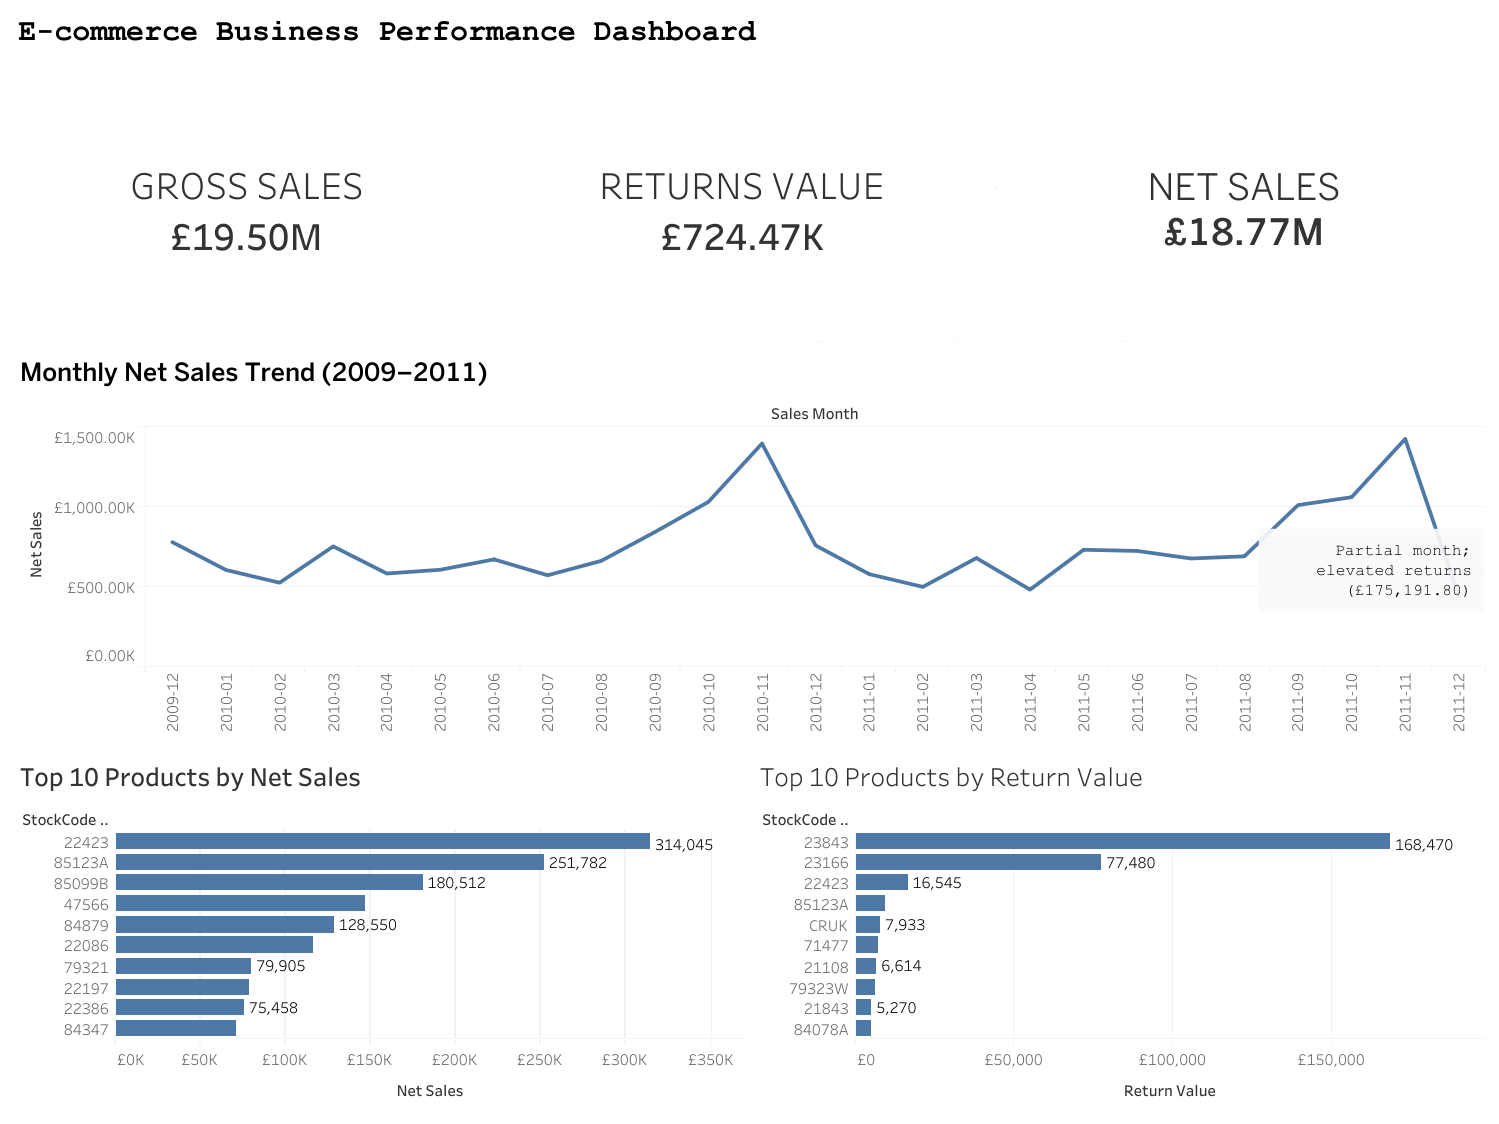

The page's visual inventory and layout, read from the dashboard file:
{"tool":"tableau","page":{"name":"Dashboard 1","canvas":[1200,900],"ordinal":0},"visuals":[{"type":"title","box":[8,8,1184,42]},{"type":"worksheet","title":"KPI - Gross Sales","mark":"Automatic","box":[8,50,379,230.1]},{"type":"worksheet","title":"KPI - Returns Value","mark":"Automatic","box":[387,50,413,230.1]},{"type":"worksheet","title":"KPI - Net Sales","mark":"Automatic","box":[800,50,392,230.1]},{"type":"worksheet","title":"Monthly Sales Trend","mark":"Line","rows":["Calculation_2898104825536512"],"cols":["Sales_Month"],"box":[8,280.1,1184,318.5]},{"type":"worksheet","title":"Top 10 Products by Net Sales","mark":"Bar","rows":["StockCode_norm"],"cols":["Calculation_2898104825536512"],"box":[8,598.6,592,293.4]},{"type":"worksheet","title":"Top 10 Products by Return Value","mark":"Bar","rows":["StockCode_norm"],"cols":["Calculation_2898104830959617"],"box":[600,598.6,592,293.4]}]}

Visuals, with their boxes in screenshot pixels (x1, y1, x2, y2), scaled from the page's 1200x900 canvas onto the 1499x1124 screenshot:
title: x1=10, y1=10, x2=1489, y2=62
"KPI - Gross Sales" worksheet: x1=10, y1=62, x2=483, y2=350
"KPI - Returns Value" worksheet: x1=483, y1=62, x2=999, y2=350
"KPI - Net Sales" worksheet: x1=999, y1=62, x2=1489, y2=350
"Monthly Sales Trend" worksheet (Line marks): x1=10, y1=350, x2=1489, y2=748
"Top 10 Products by Net Sales" worksheet (Bar marks): x1=10, y1=748, x2=750, y2=1114
"Top 10 Products by Return Value" worksheet (Bar marks): x1=750, y1=748, x2=1489, y2=1114
